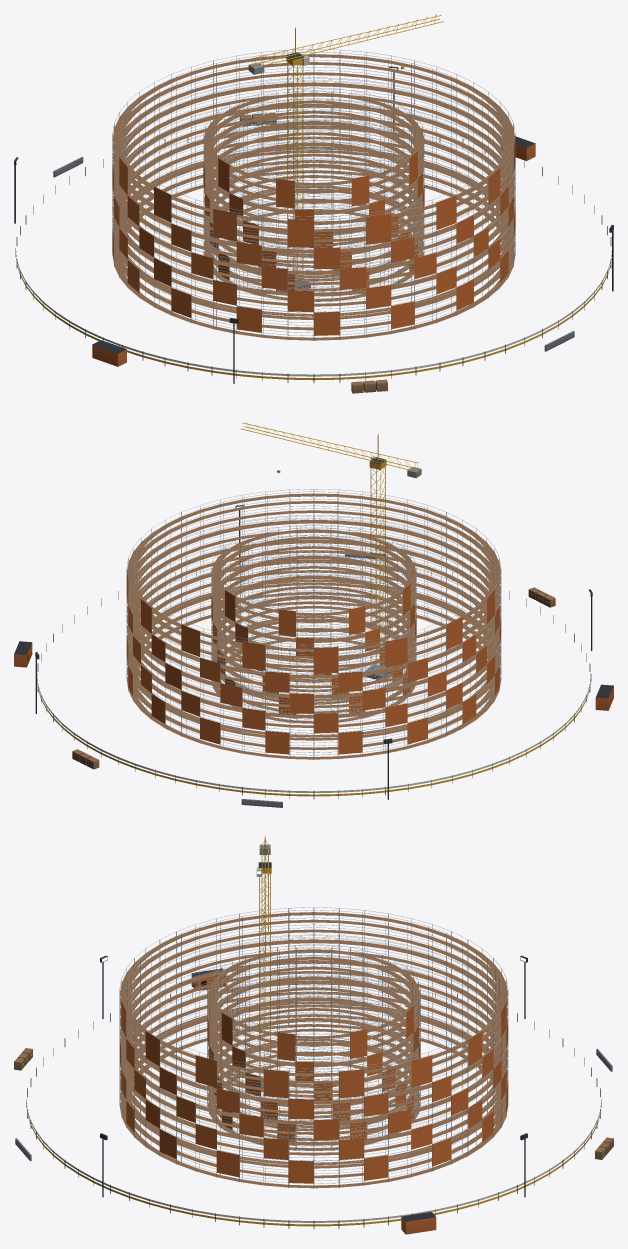
The model's file is dome_scaffold.glb.
3 views of the same model, one above another, from view 1: azimuth 30°, elevation 25°; view 2: azimuth 150°, elevation 25°; view 3: azimuth 270°, elevation 25° (orthographic). The views are drawn at different scales.
Visible parts, largest first — view 1: Scaffold_5_Tubes, Scaffold_1_Tubes, Scaffold_4_Tubes, Scaffold_3_Tubes, Scaffold_2_Tubes, Site_Props, Crane_Jib, Crane_Tower; view 2: Scaffold_5_Tubes, Scaffold_1_Tubes, Scaffold_4_Tubes, Scaffold_3_Tubes, Scaffold_2_Tubes, Site_Props, Crane_Tower, Crane_Jib; view 3: Scaffold_5_Tubes, Scaffold_4_Tubes, Scaffold_1_Tubes, Scaffold_3_Tubes, Scaffold_2_Tubes, Site_Props, Crane_Jib, Crane_Tower.
Part boxes in pixels (box(x1,y1,x2,y2)): Scaffold_5_Tubes: box(112, 49, 515, 251); Scaffold_1_Tubes: box(112, 141, 515, 340); Scaffold_4_Tubes: box(112, 77, 515, 272); Scaffold_3_Tubes: box(112, 99, 515, 292); Scaffold_2_Tubes: box(112, 120, 515, 316); Site_Props: box(14, 66, 613, 393); Crane_Jib: box(248, 14, 443, 74); Crane_Tower: box(287, 62, 310, 288); Scaffold_5_Tubes: box(126, 489, 501, 673); Scaffold_1_Tubes: box(126, 575, 501, 759); Scaffold_4_Tubes: box(126, 515, 501, 696); Scaffold_3_Tubes: box(126, 535, 501, 715); Scaffold_2_Tubes: box(126, 555, 501, 733); Site_Props: box(14, 504, 613, 807); Crane_Tower: box(364, 466, 391, 679); Crane_Jib: box(241, 422, 421, 478); Scaffold_5_Tubes: box(119, 907, 508, 1102); Scaffold_4_Tubes: box(119, 934, 508, 1122); Scaffold_1_Tubes: box(119, 996, 508, 1188); Scaffold_3_Tubes: box(119, 955, 508, 1143); Scaffold_2_Tubes: box(119, 976, 508, 1164); Site_Props: box(14, 955, 613, 1234); Crane_Jib: box(256, 836, 271, 953); Crane_Tower: box(259, 873, 270, 1087).
Size of the model in its own units: 111 by 50.82 by 111.
